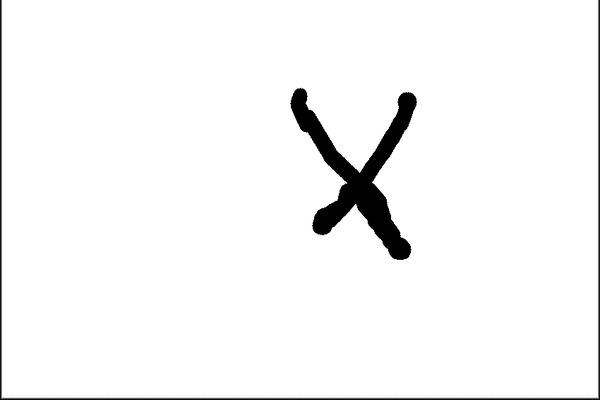X: (269, 64, 432, 265)
